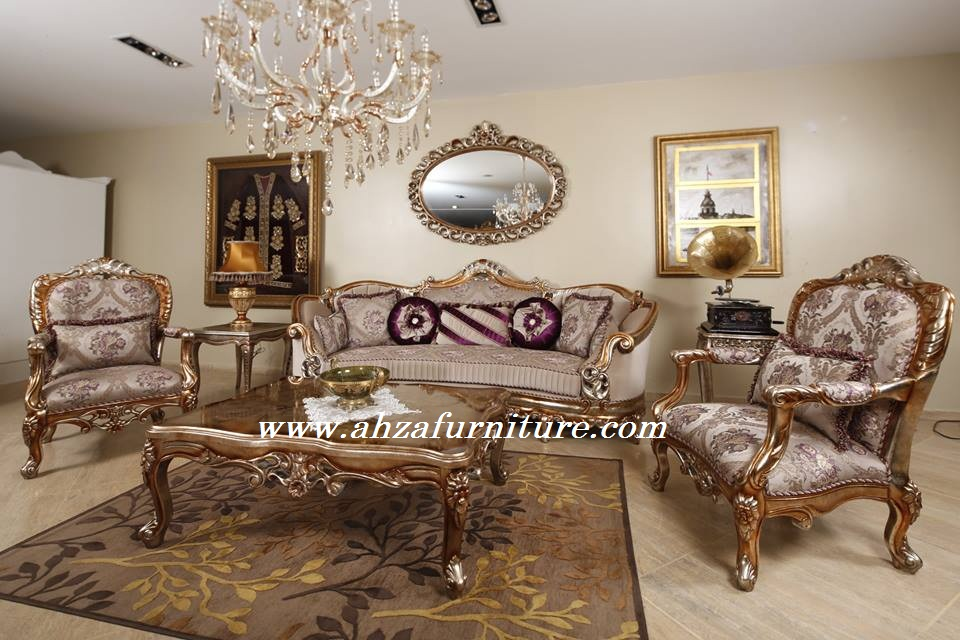Carving Chair: (676, 263, 924, 569), (305, 261, 626, 433), (24, 258, 202, 468)
Carving Table: (146, 384, 535, 576)
